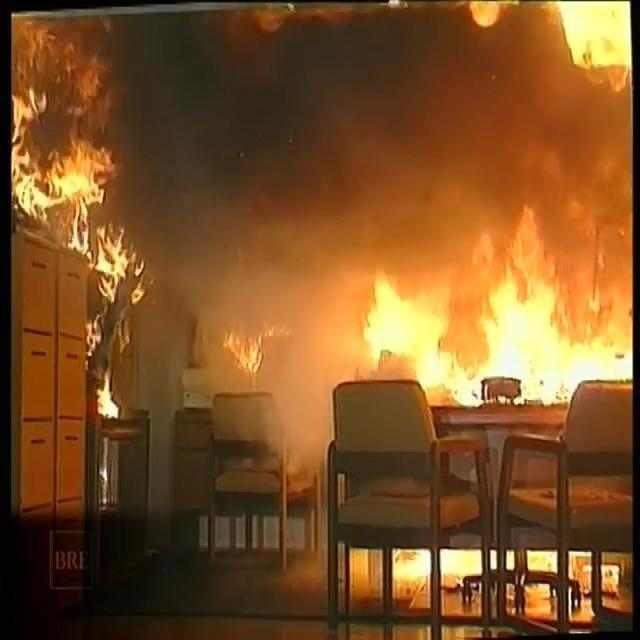Fire: (11, 12, 632, 416)
